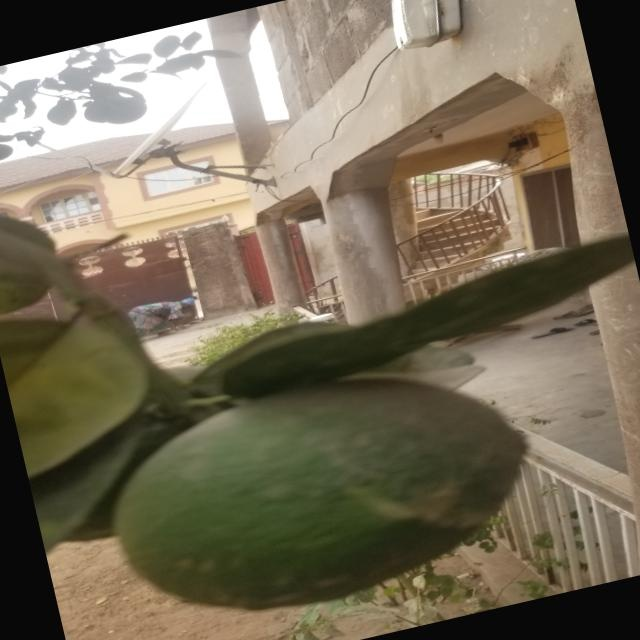agrume: (89, 341, 558, 635)
